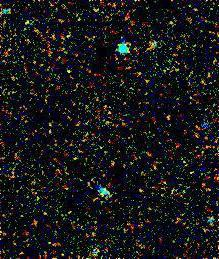star: (47, 52, 77, 82)
